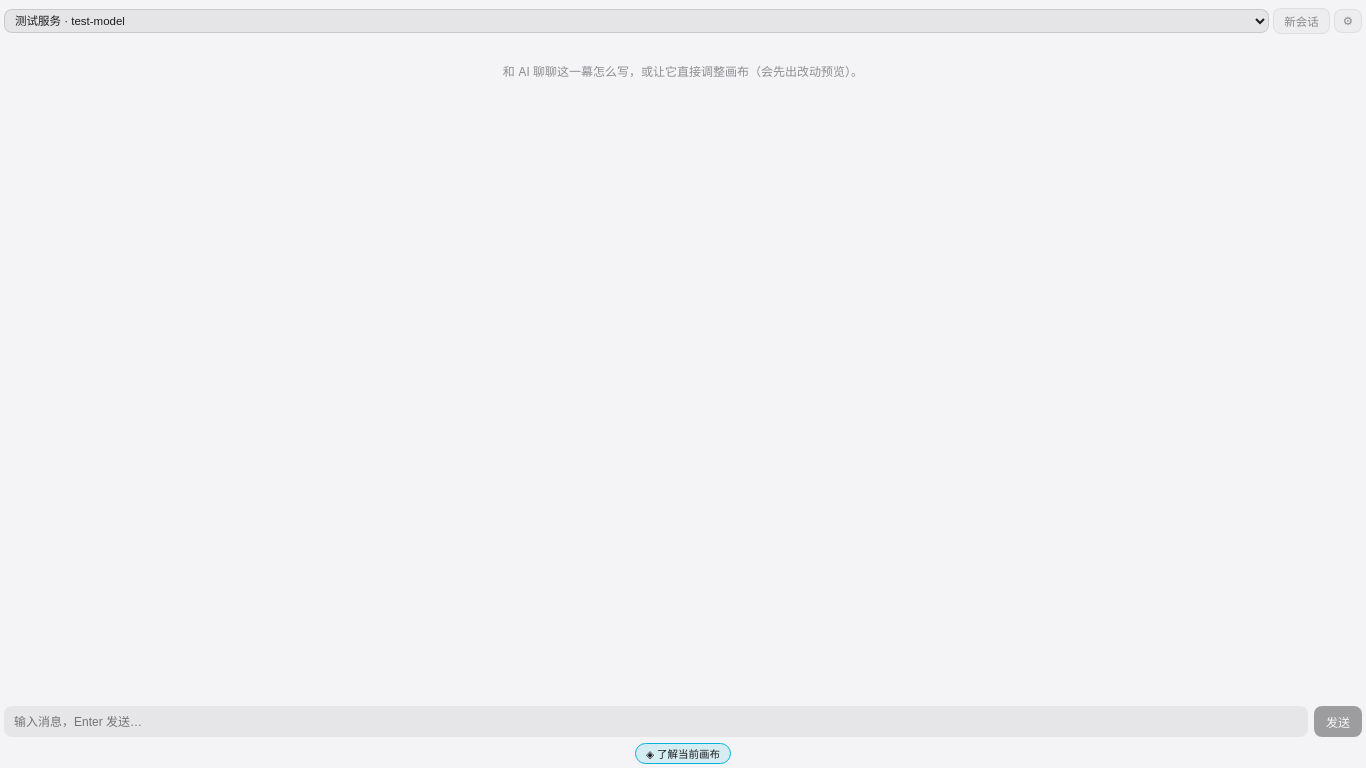
Test case: AiThread 输入行发送按钮的禁用条件（issue #599） › 空草稿禁用；输入后启用；点击与 Enter 同效（用户消息入列并发出 llm_chat，草稿清空）
This screenshot has width=1366, height=768.
Expected: the button "发送" is disabled, [1314,706,1362,737]
Type "帮我丰富开场" into the field named "AI 对话输入" at point(656, 722), box [4,706,1308,737]
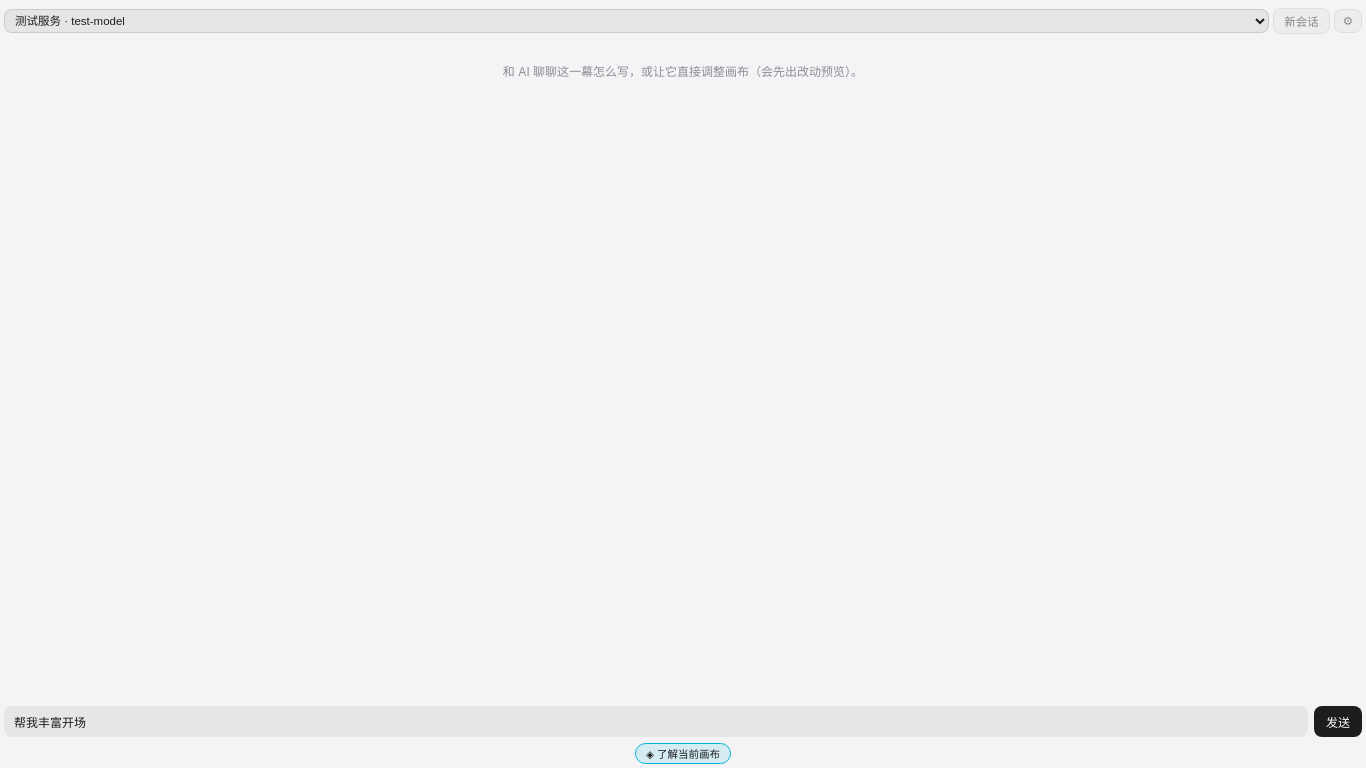
Result: the button "发送" is enabled
Click the button "发送" at point(1338, 722), box [1314,706,1362,737]
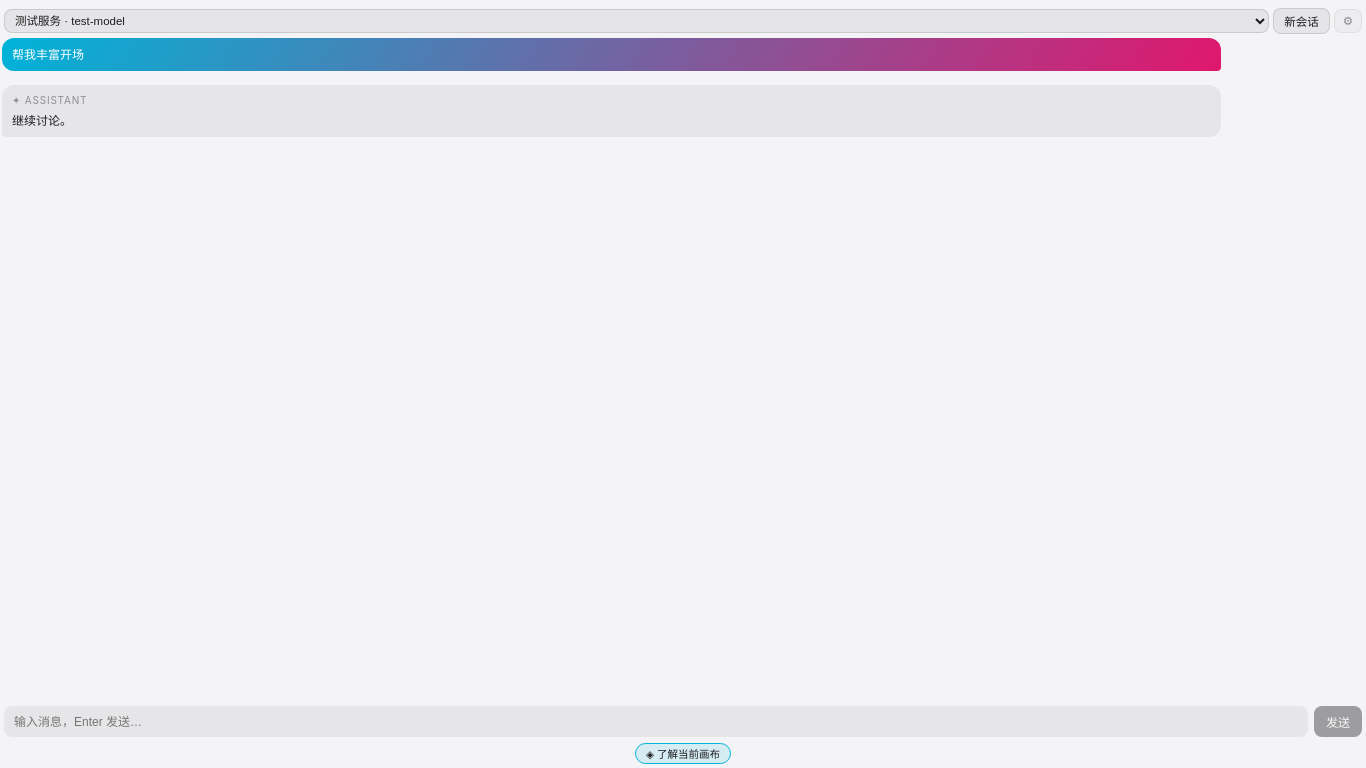
Result: the text "帮我丰富开场" is shown at [2,38,1220,71]
Result: the field named "AI 对话输入" is empty at [4,706,1308,737]
Result: the button "发送" is disabled at [1314,706,1362,737]
